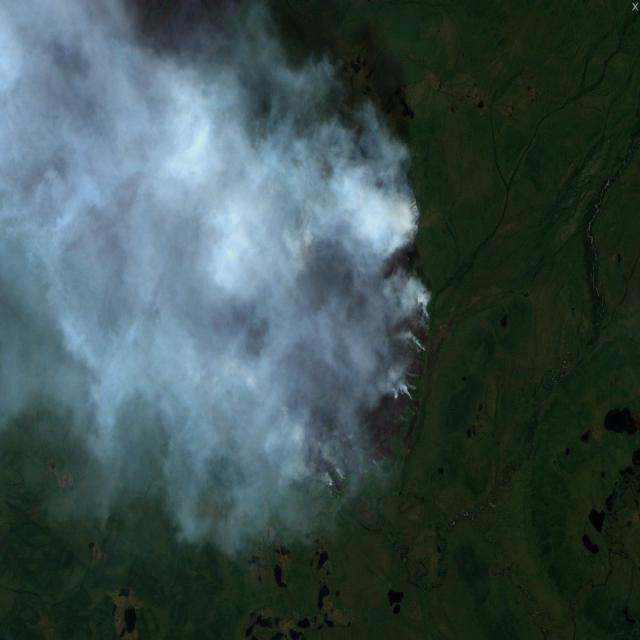fire: (200, 273, 438, 495), (252, 152, 426, 249)
